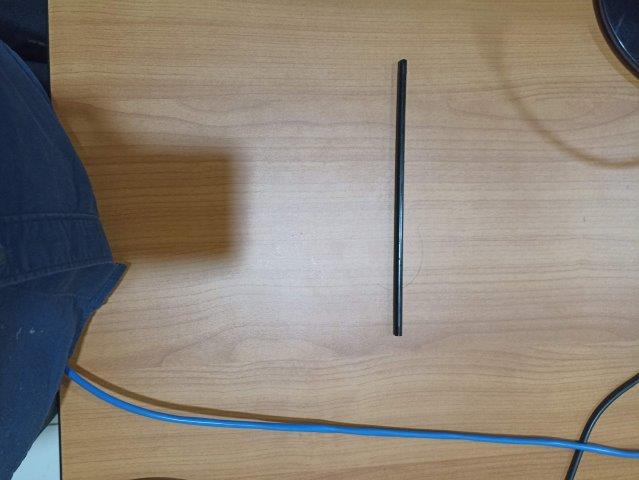sedotan: (393, 60, 407, 336)
